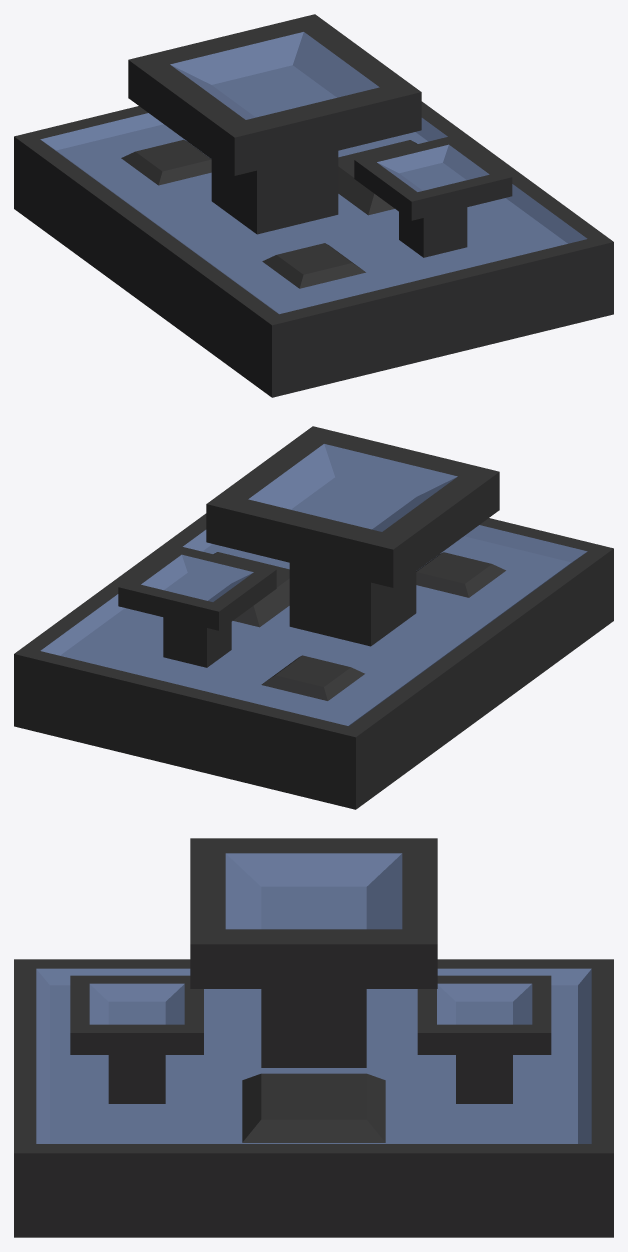
Rendered from fountain8.fbx.
The picture shows the model from 3 angles, top to bottom: view 1: azimuth 30°, elevation 25°; view 2: azimuth 150°, elevation 25°; view 3: azimuth 270°, elevation 25°; orthographic projection. The views are drawn at different scales.
Parts seen in each view (by area): view 1: Fountain1.002; view 2: Fountain1.002; view 3: Fountain1.002.
Part boxes in pixels (<box>): Fountain1.002: <box>14,14,613,397</box>; Fountain1.002: <box>14,426,613,809</box>; Fountain1.002: <box>14,838,613,1237</box>.
Bounding box in the file's own units: 206 × 112 × 269.
